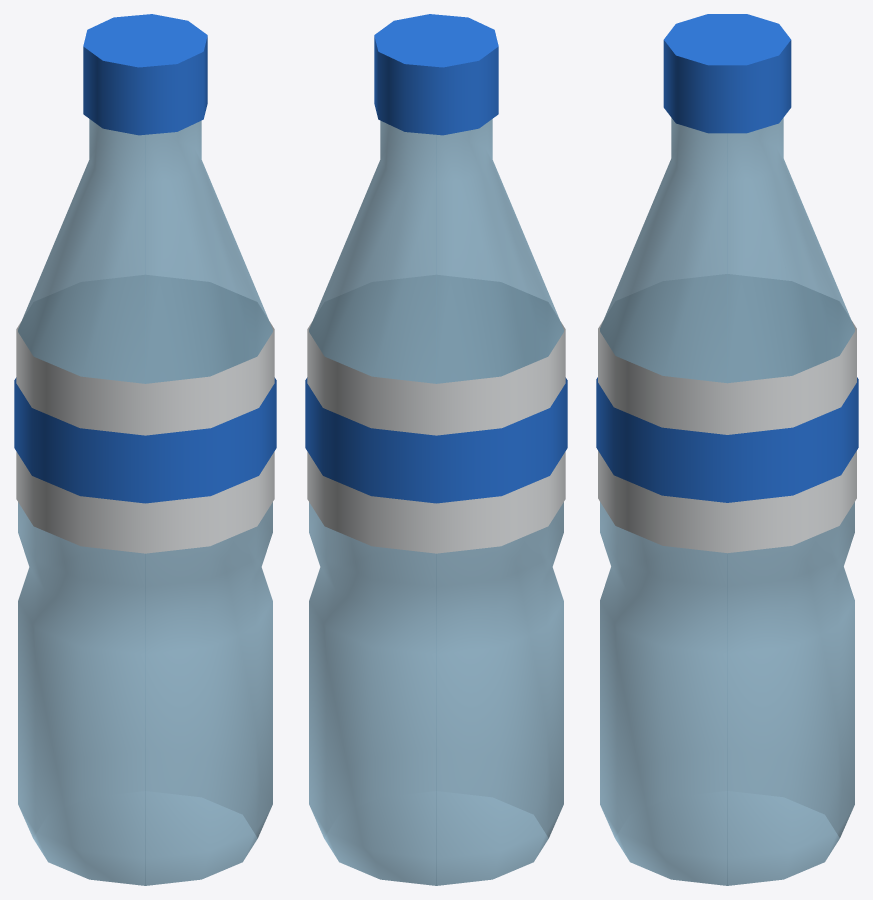
Rendered from water_bottle.glb.
3 renders of one model, left to right at view 1: azimuth 30°, elevation 25°; view 2: azimuth 150°, elevation 25°; view 3: azimuth 270°, elevation 25°, orthographic.
Parts seen in each view (by area): view 1: water_bottle; view 2: water_bottle; view 3: water_bottle.
Part boxes in pixels (bbox=[...]): water_bottle: bbox=[14, 14, 276, 885]; water_bottle: bbox=[305, 14, 567, 885]; water_bottle: bbox=[596, 14, 858, 885].
Bounding box in the file's own units: 0.07 × 0.235 × 0.07.
